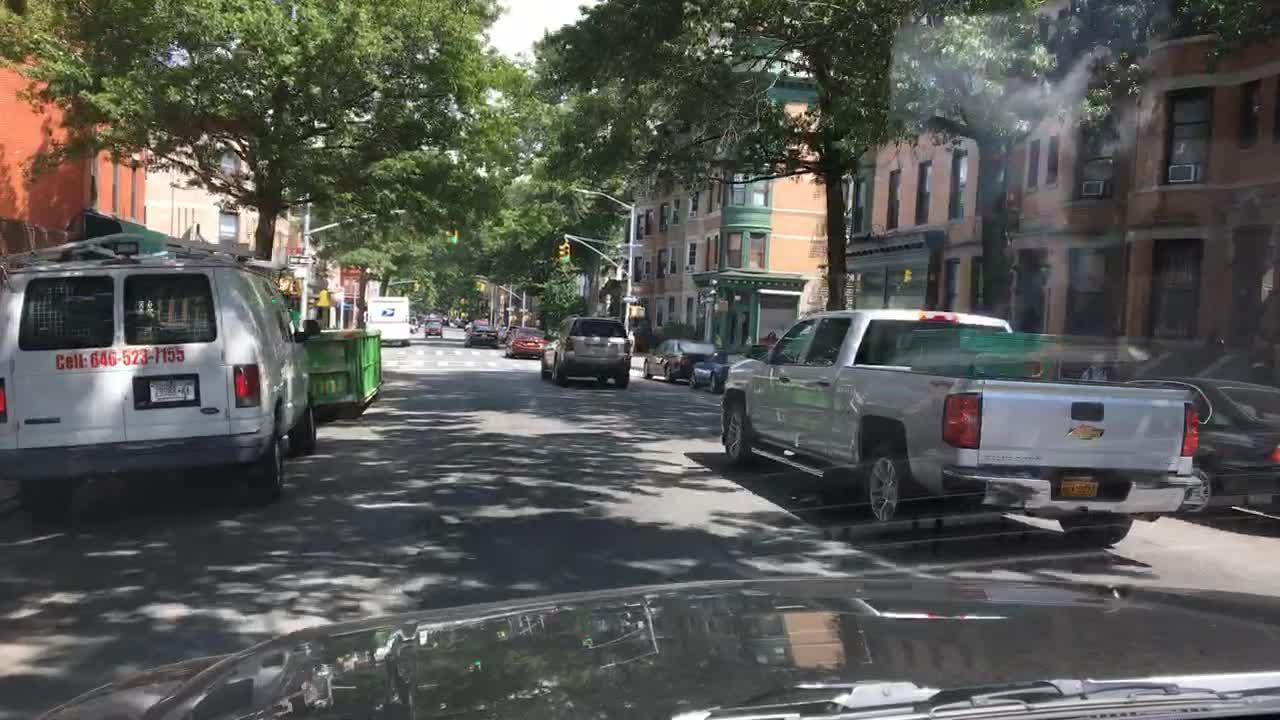chevrolet: (1061, 422, 1115, 445)
